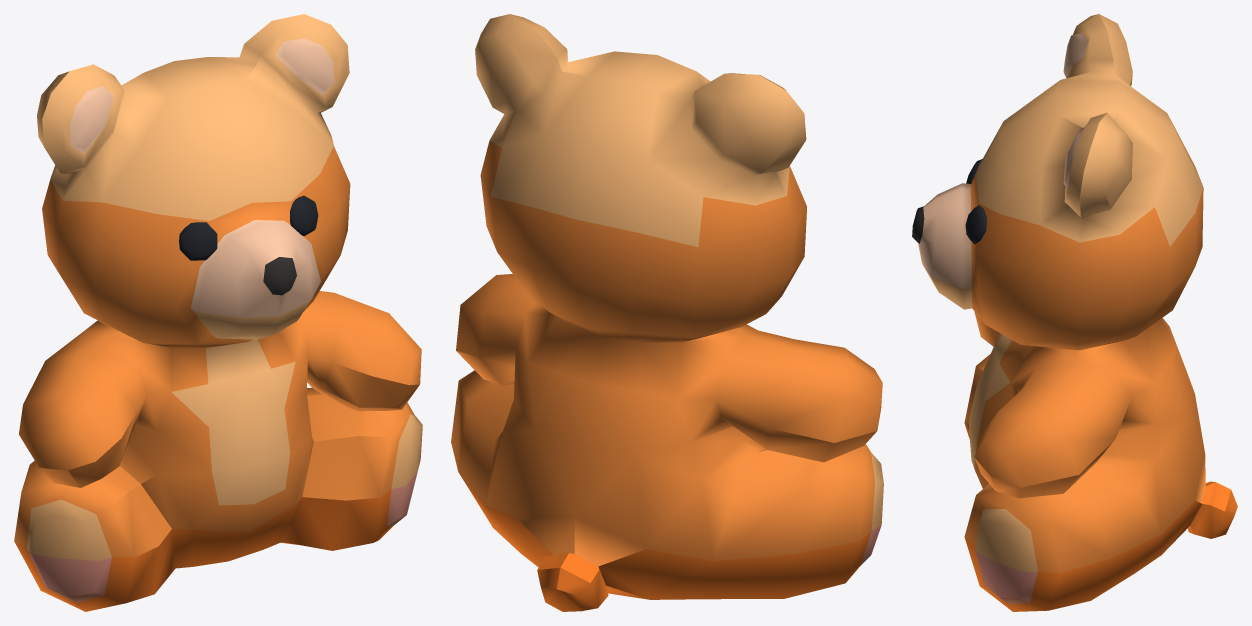
Rendered from pelucia_urso_pacote.glb.
3 renders of one model, left to right at view 1: azimuth 30°, elevation 25°; view 2: azimuth 150°, elevation 25°; view 3: azimuth 270°, elevation 25°, orthographic. The views are drawn at different scales.
Visible parts, largest first — view 1: pelucia_urso_pacote; view 2: pelucia_urso_pacote; view 3: pelucia_urso_pacote.
Boxes of the visible parts, box(x1,y1,x2,y2) form: pelucia_urso_pacote: box(14, 14, 422, 611); pelucia_urso_pacote: box(451, 14, 883, 611); pelucia_urso_pacote: box(912, 14, 1237, 611).
Bounding box in the file's own units: 0.3281 × 0.4118 × 0.2509.
1 material, 1 textured.
